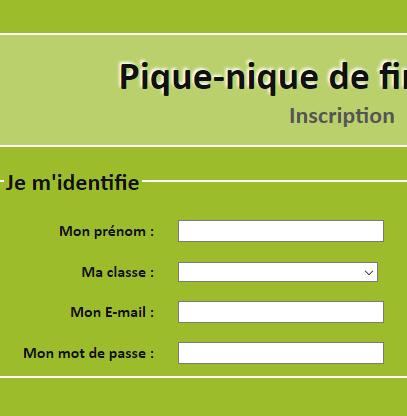field: (176, 300, 385, 325), (176, 218, 384, 243), (176, 341, 384, 365), (176, 261, 378, 283)
field_with_label: (20, 339, 390, 368), (60, 214, 387, 246), (70, 298, 389, 328), (79, 256, 382, 286)
